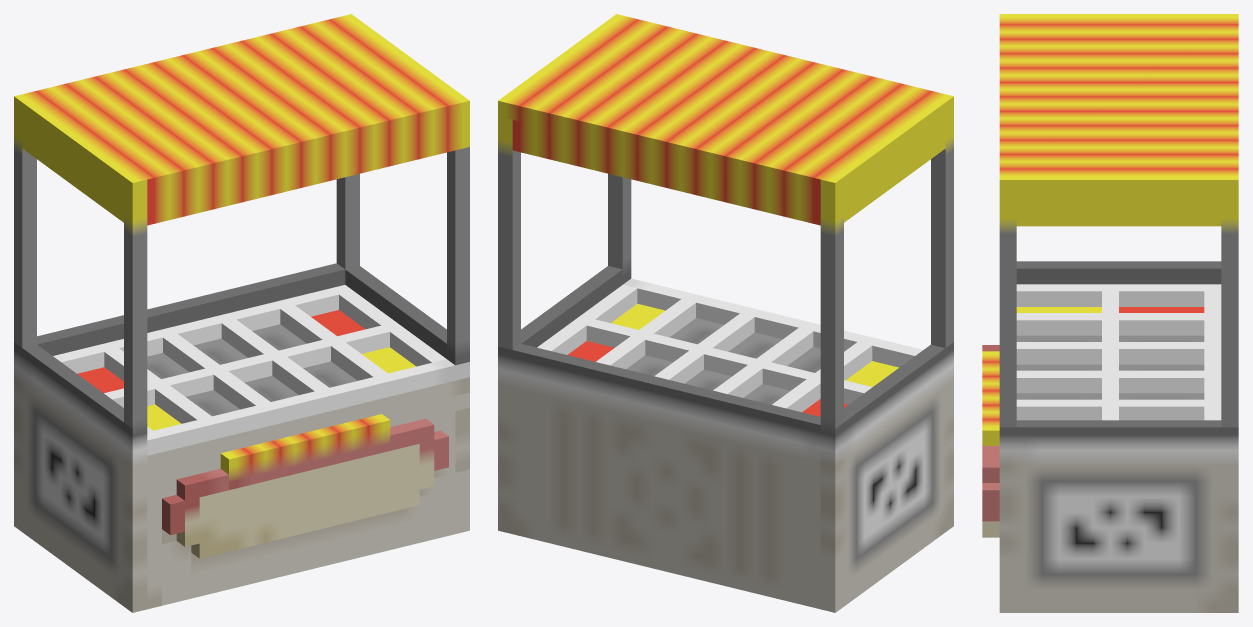
File: hotdogstand.obj
The picture shows the model from 3 angles, left to right: view 1: azimuth 30°, elevation 25°; view 2: azimuth 150°, elevation 25°; view 3: azimuth 270°, elevation 25°; orthographic projection.
Visible parts, largest first — view 1: Box_69; view 2: Box_69; view 3: Box_69.
Boxes of the visible parts, x1,y1,x2,y2 form: Box_69: [14, 14, 469, 612]; Box_69: [498, 14, 953, 612]; Box_69: [982, 14, 1238, 612].
Bounding box in the file's own units: 23 × 28 × 15.
1 material, 1 textured.
